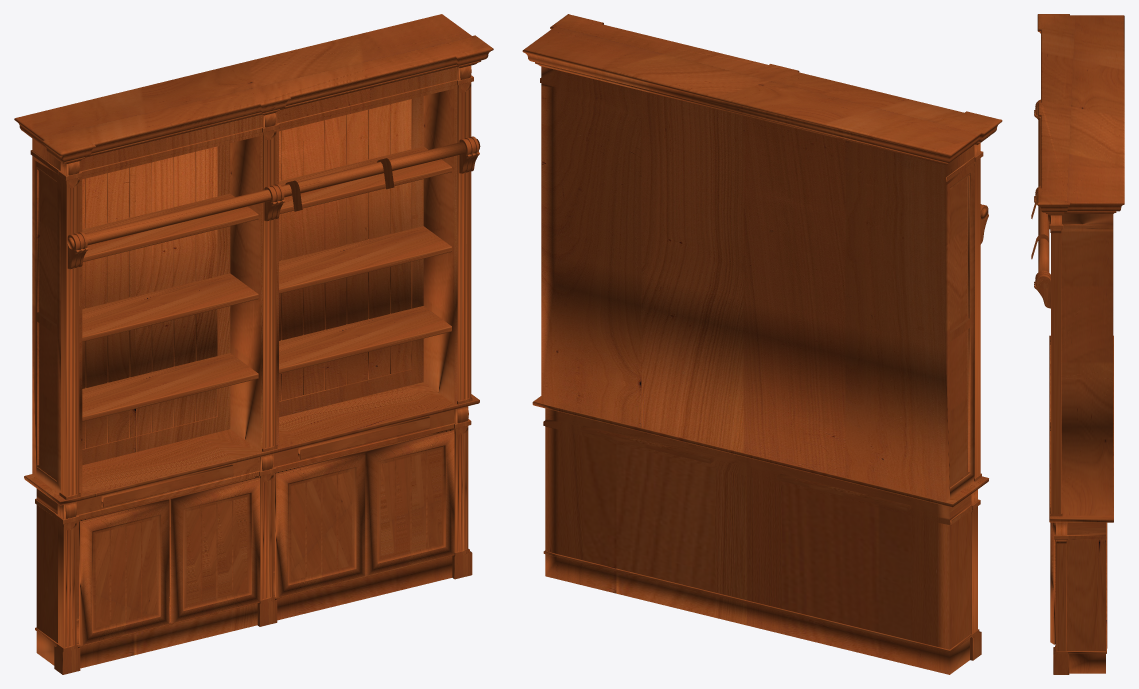
File: bookshelf.obj
3 renders of one model, left to right at view 1: azimuth 30°, elevation 25°; view 2: azimuth 150°, elevation 25°; view 3: azimuth 270°, elevation 25°, orthographic. The views are drawn at different scales.
Visible parts, largest first — view 1: objBox11, objBox01, objLoft01, objBox05, objBox02, objBox03, objBox04, objsutun04, objChamferBox03, objChamferBox02, objChamferBox05, objChamferBox06 (+10 smaller); view 2: objBox11, objBox01, objLoft01, objsutun04, objsutun01, objBox07, objBox06; view 3: objLoft01, objBox11, objBox01, objsutun06, objsutun03, objCylinder01, objBox04, objLine04.
Boxes of the visible parts, left/top/right/bottom form: objBox11: left=30, top=67, right=457, bottom=495; objBox01: left=24, top=382, right=479, bottom=668; objLoft01: left=14, top=14, right=493, bottom=164; objBox05: left=274, top=451, right=365, bottom=597; objBox02: left=79, top=499, right=169, bottom=645; objBox03: left=170, top=477, right=260, bottom=623; objBox04: left=364, top=429, right=454, bottom=575; objsutun04: left=58, top=161, right=82, bottom=499; objChamferBox03: left=82, top=353, right=258, bottom=421; objChamferBox02: left=82, top=273, right=258, bottom=341; objChamferBox05: left=279, top=226, right=451, bottom=293; objChamferBox06: left=279, top=306, right=451, bottom=373; objBox11: left=540, top=66, right=974, bottom=501; objBox01: left=532, top=396, right=988, bottom=674; objLoft01: left=522, top=14, right=1002, bottom=164; objsutun04: left=974, top=143, right=983, bottom=481; objsutun01: left=970, top=489, right=981, bottom=660; objBox07: left=580, top=425, right=714, bottom=463; objBox06: left=777, top=474, right=911, bottom=511; objLoft01: left=1037, top=14, right=1124, bottom=215; objBox11: left=1061, top=214, right=1113, bottom=515; objBox01: left=1049, top=335, right=1113, bottom=673; objsutun06: left=1049, top=215, right=1063, bottom=516; objsutun03: left=1053, top=522, right=1069, bottom=674; objCylinder01: left=1038, top=117, right=1049, bottom=288; objBox04: left=1050, top=522, right=1055, bottom=644; objLine04: left=1034, top=270, right=1050, bottom=308.
Size of the model in its own units: 363 by 424 by 75.3.
Materials: 1 (1 with a texture image).
